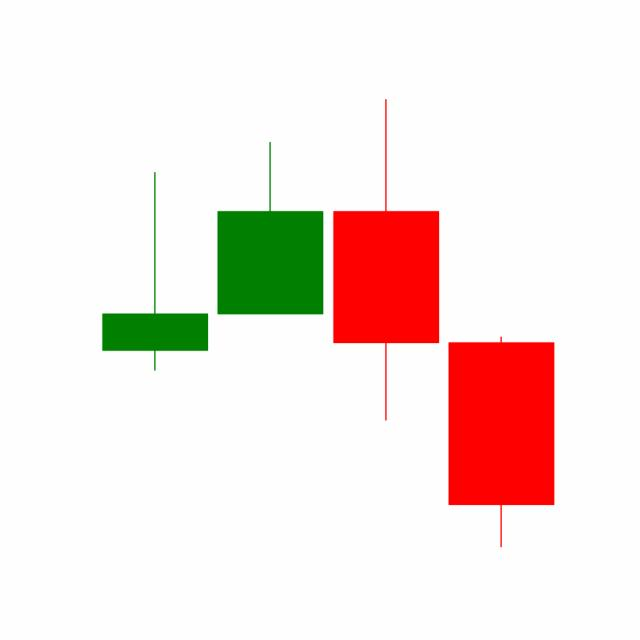Marubozu: (443, 334, 559, 549)
